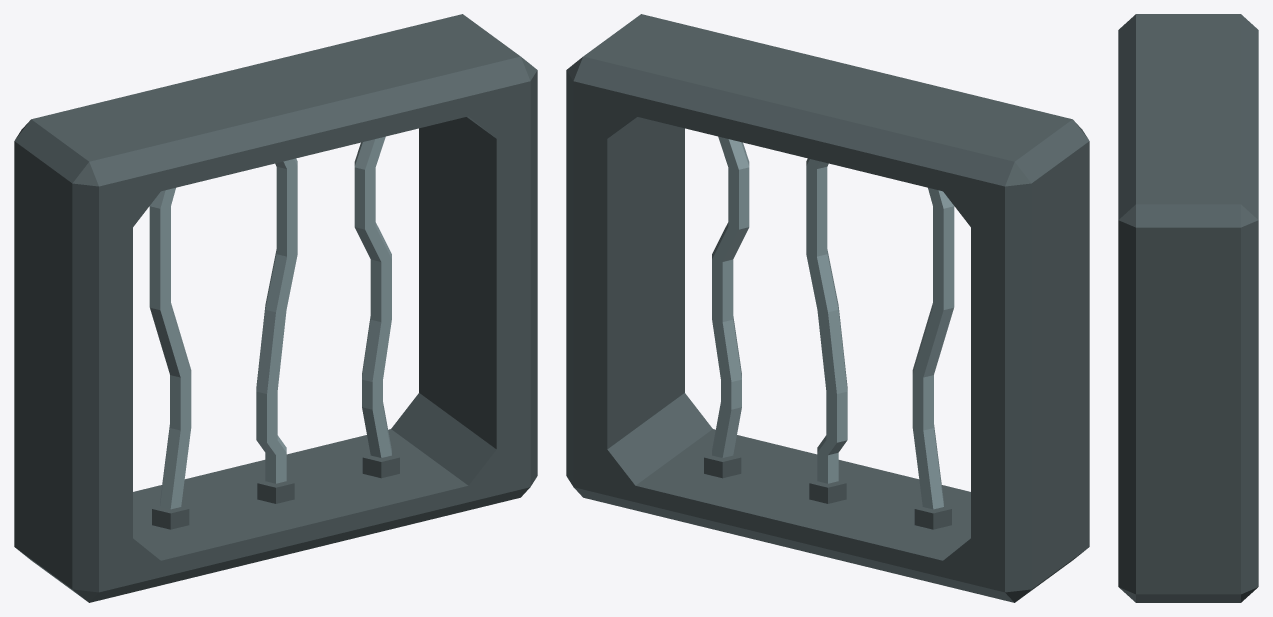
The model's file is Window1.fbx.
3 renders of one model, left to right at view 1: azimuth 30°, elevation 25°; view 2: azimuth 150°, elevation 25°; view 3: azimuth 270°, elevation 25°, orthographic. The views are drawn at different scales.
Visible parts, largest first — view 1: Window1, Fence1; view 2: Window1, Fence1; view 3: Window1.
Boxes of the visible parts, bbox=[...] form: Window1: bbox=[14, 14, 537, 602]; Fence1: bbox=[149, 136, 399, 529]; Window1: bbox=[566, 14, 1089, 602]; Fence1: bbox=[704, 136, 954, 529]; Window1: bbox=[1118, 14, 1258, 602].
Bounding box in the file's own units: 331 × 300 × 95.57.
